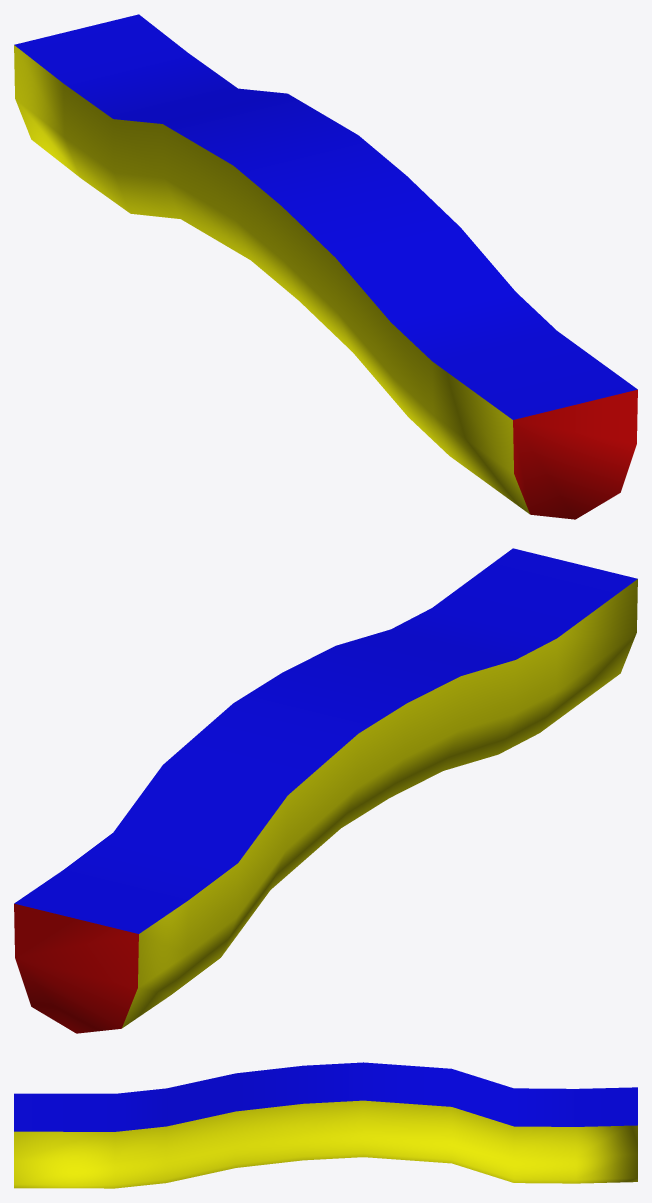
3 views of the same model, one above another, from view 1: azimuth 30°, elevation 25°; view 2: azimuth 150°, elevation 25°; view 3: azimuth 270°, elevation 25° (orthographic). The views are drawn at different scales.
Visible parts, largest first — view 1: polySurface135; view 2: polySurface135; view 3: polySurface135.
Boxes of the visible parts, <box> form: polySurface135: <box>14,14,637,519</box>; polySurface135: <box>14,548,637,1033</box>; polySurface135: <box>14,1062,637,1188</box>.
Size of the model in its own units: 23.58 by 29.74 by 163.
